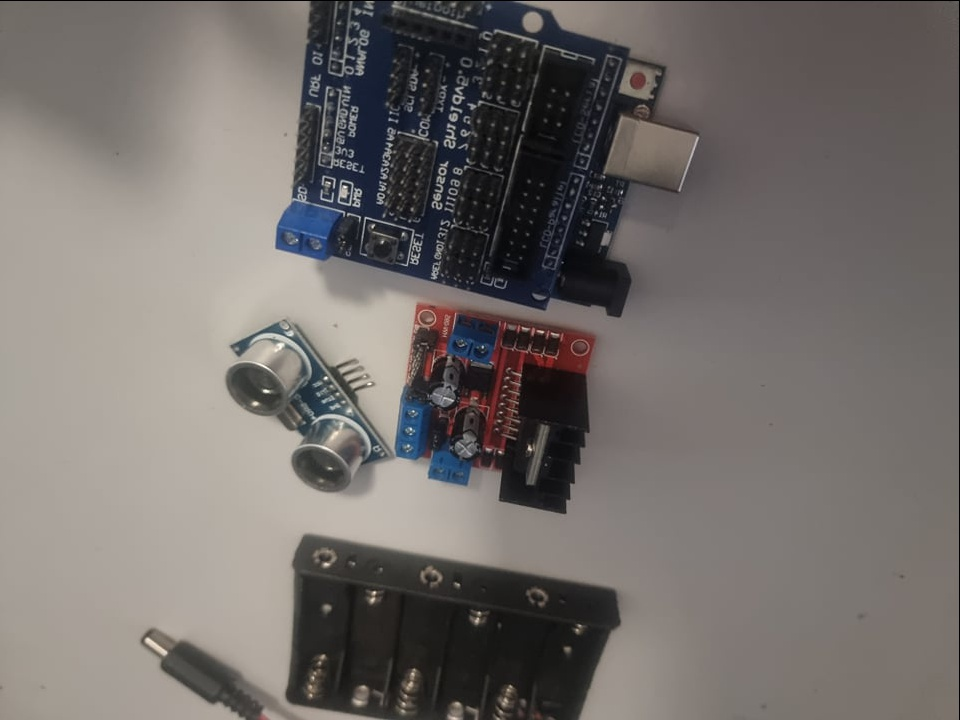5V EXPANSION: (264, 0, 564, 304)
BATTERY BOX: (274, 528, 620, 717)
MOTOR: (397, 311, 611, 511)
SENSOR: (221, 313, 389, 500)
UNO R3: (574, 33, 712, 331)
